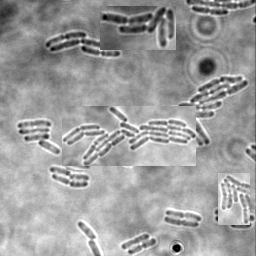Dividing: (52, 175, 89, 189), (128, 238, 157, 255), (166, 209, 202, 222), (164, 217, 200, 228), (192, 7, 229, 17)
Microcolony: (62, 106, 196, 166), (158, 76, 249, 147), (100, 6, 176, 50), (45, 32, 121, 57), (218, 173, 250, 225), (18, 120, 61, 155)
Rod: (121, 233, 150, 251), (78, 222, 99, 240), (66, 158, 91, 170), (50, 167, 72, 177), (69, 174, 90, 183)
